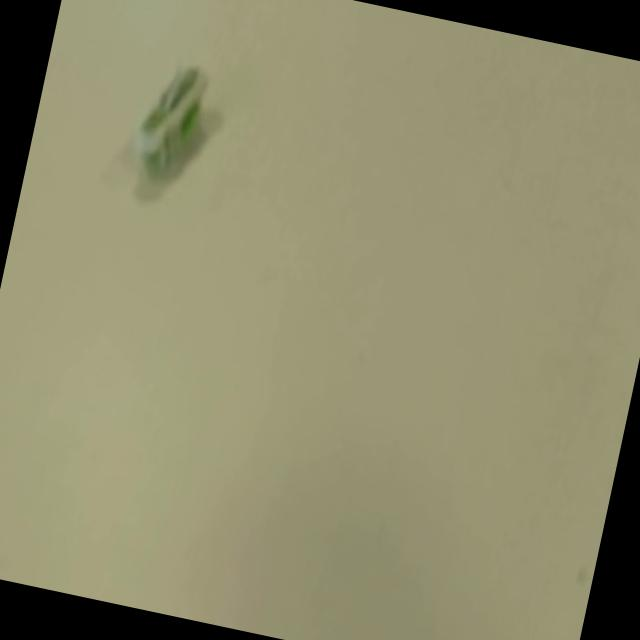4_NanoBug_Blanco: (69, 11, 278, 252)
